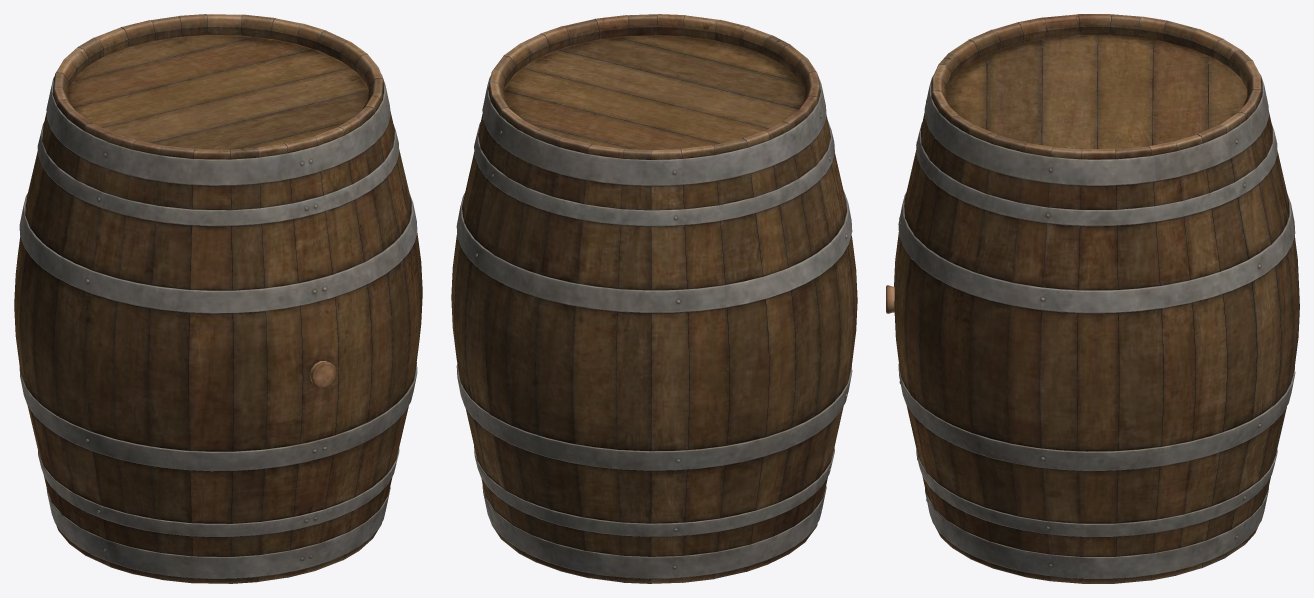
The model's file is wine_barrel_01.glb.
3 views of the same model, side by side, from view 1: azimuth 30°, elevation 25°; view 2: azimuth 150°, elevation 25°; view 3: azimuth 270°, elevation 25° (orthographic).
Visible parts, largest first — view 1: wine_barrel_01, wine_barrel_01_Lid, wine_barrel_01_bung; view 2: wine_barrel_01, wine_barrel_01_Lid; view 3: wine_barrel_01, wine_barrel_01_Lid.
Boxes of the visible parts, x1=… form: wine_barrel_01: x1=14, y1=14, x2=422, y2=583; wine_barrel_01_Lid: x1=67, y1=35, x2=368, y2=149; wine_barrel_01_bung: x1=310, y1=361, x2=336, y2=388; wine_barrel_01: x1=451, y1=14, x2=857, y2=583; wine_barrel_01_Lid: x1=503, y1=35, x2=805, y2=152; wine_barrel_01: x1=894, y1=14, x2=1299, y2=583; wine_barrel_01_Lid: x1=946, y1=35, x2=1247, y2=149.
Size of the model in its own units: 0.7419 by 0.8713 by 0.756.
1 material, 1 textured.
